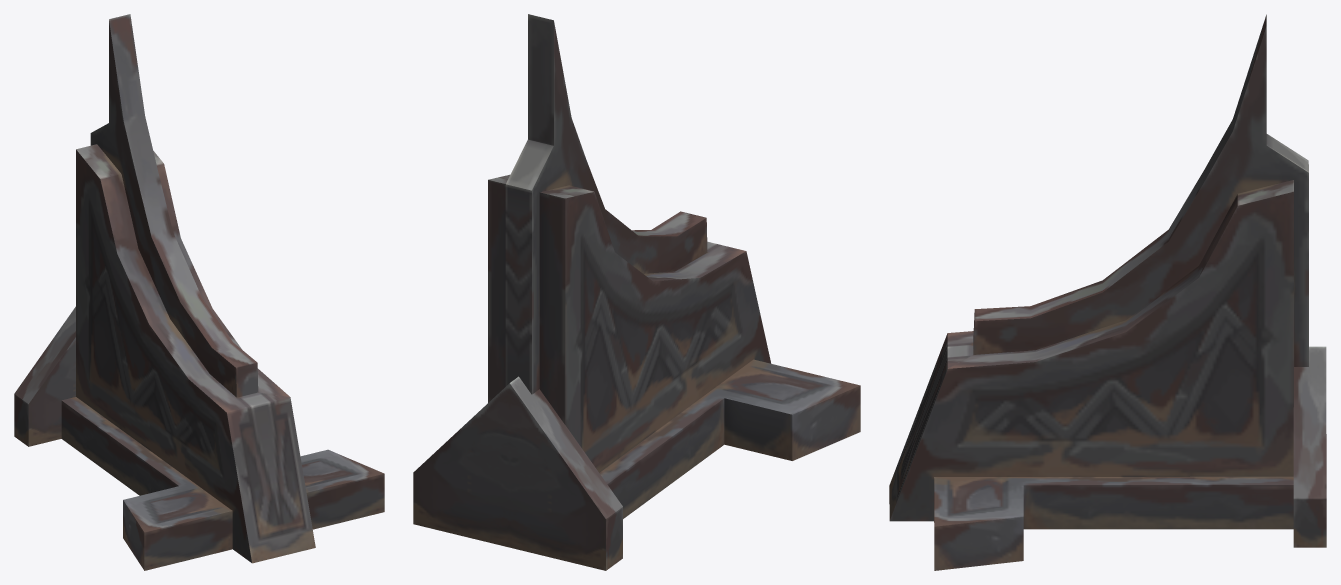
The model's file is sc_dungeon_moshenta_props_001.FBX.
The picture shows the model from 3 angles, left to right: view 1: azimuth 30°, elevation 25°; view 2: azimuth 150°, elevation 25°; view 3: azimuth 270°, elevation 25°; orthographic projection. The views are drawn at different scales.
Parts seen in each view (by area): view 1: sc_dungeon_moshenta_props_001; view 2: sc_dungeon_moshenta_props_001; view 3: sc_dungeon_moshenta_props_001.
Part boxes in pixels (box(x1,y1,x2,y2)): sc_dungeon_moshenta_props_001: box(14, 14, 384, 570); sc_dungeon_moshenta_props_001: box(413, 14, 860, 570); sc_dungeon_moshenta_props_001: box(889, 14, 1326, 570).
Size of the model in its own units: 3.23 by 4.42 by 5.39.
Materials: 1 (1 with a texture image).
